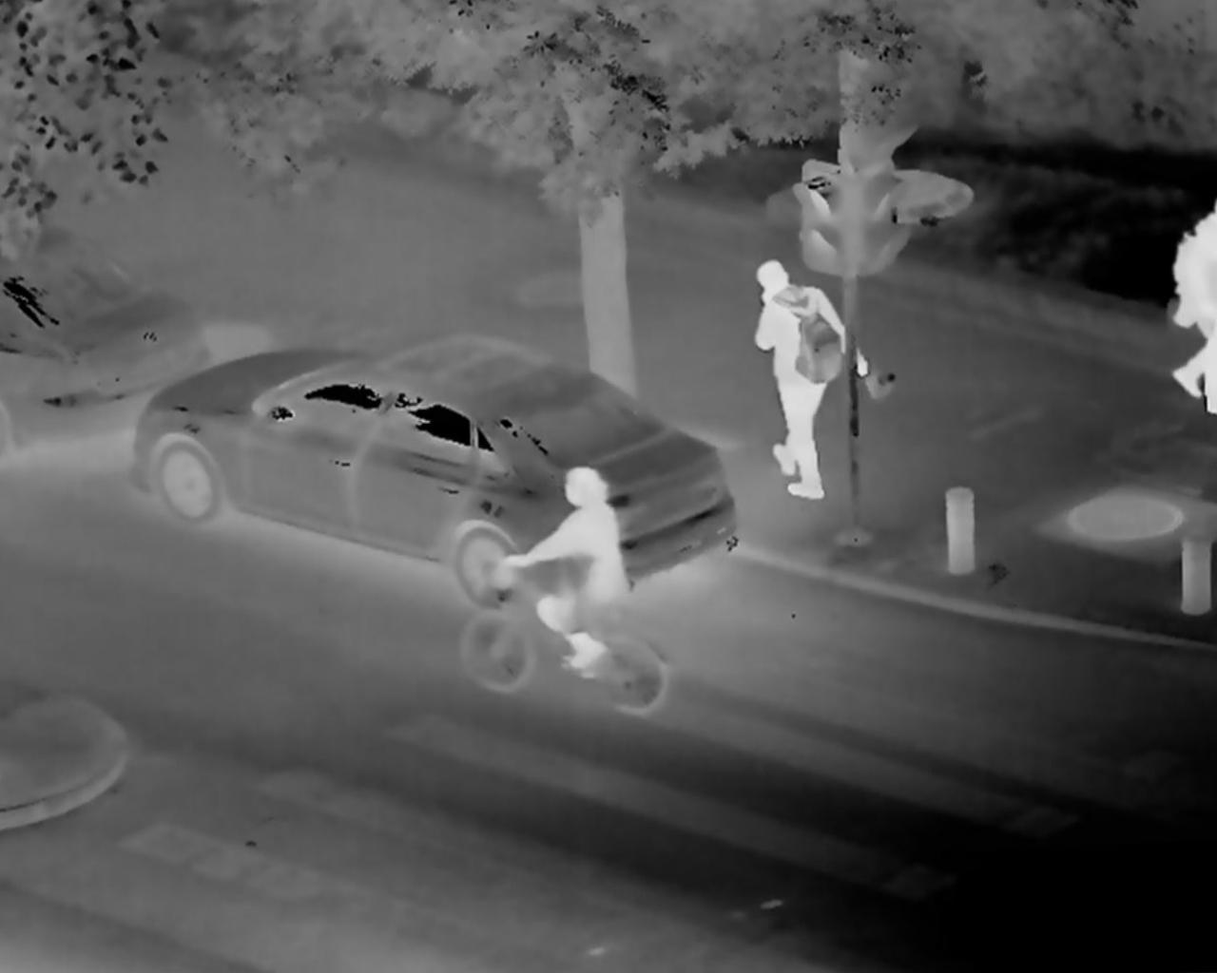person: (507, 466, 652, 678), (748, 259, 871, 506), (1169, 199, 1217, 413)
